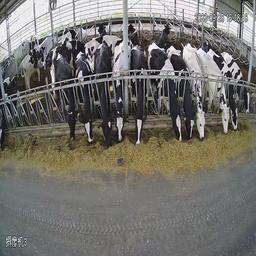cow: (149, 42, 183, 143), (207, 47, 232, 132), (112, 39, 131, 143), (55, 53, 76, 141), (95, 43, 111, 148), (194, 46, 212, 137), (132, 41, 147, 146), (77, 50, 92, 145), (231, 45, 250, 115), (183, 46, 194, 139), (24, 41, 44, 89), (230, 54, 240, 131)
